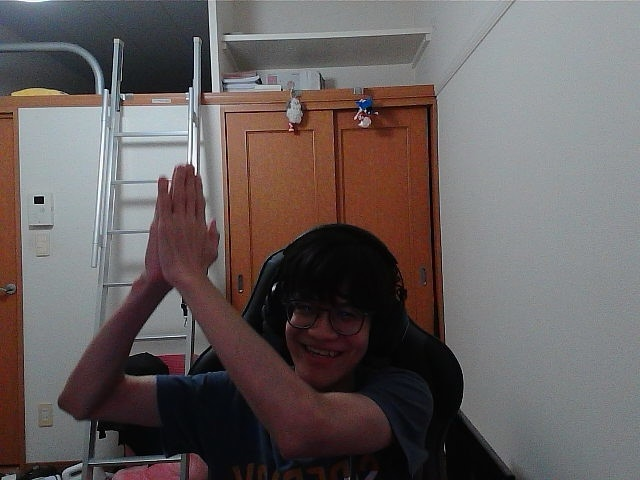pray: (163, 167, 214, 269)
